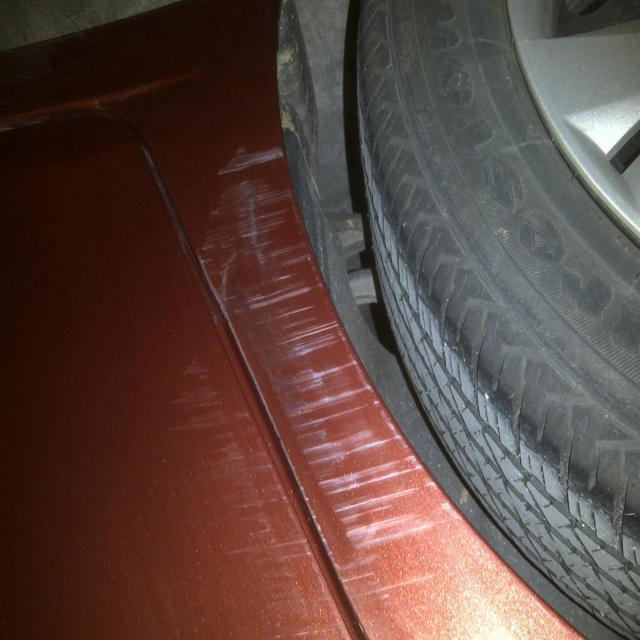scratch: (166, 115, 488, 624)
